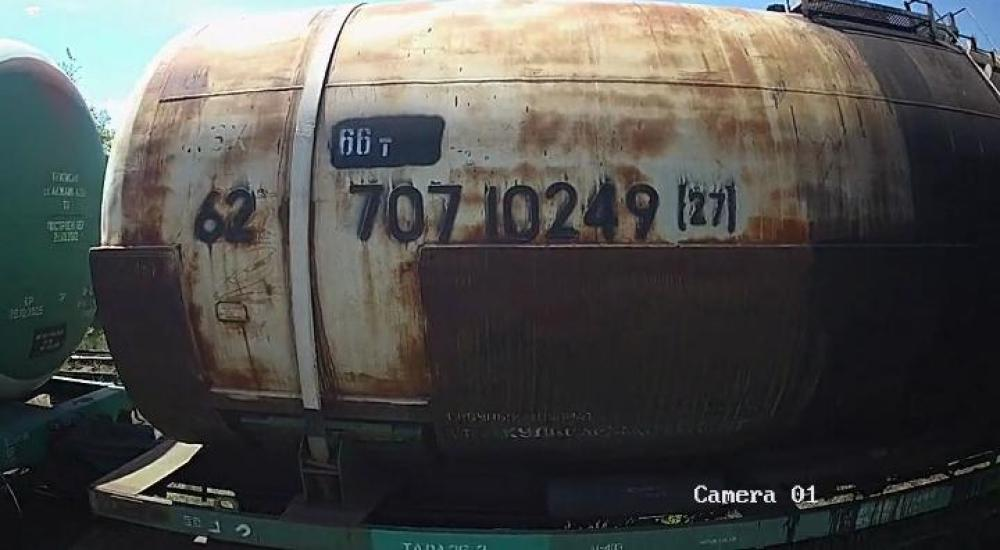Wagon-number: (345, 178, 664, 244)
